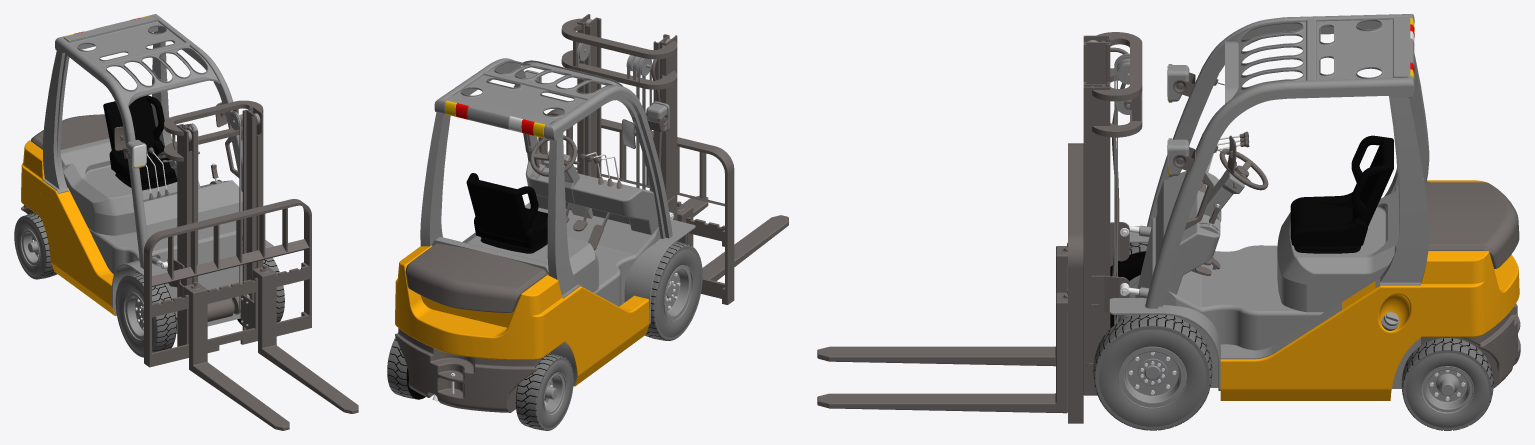
File: forklift.glb
3 views of the same model, side by side, from view 1: azimuth 30°, elevation 25°; view 2: azimuth 150°, elevation 25°; view 3: azimuth 270°, elevation 25° (orthographic). The views are drawn at different scales.
Visible parts, largest first — view 1: BODY-MOVECOPY41, SCALE252, SCALE278, SCALE2136, SCALE218, MOVE_FACE6, SCALE253, BODY-MOVECOPY43, BODY-MOVECOPY44, SCALE28, SCALE222, SCALE287 (+20 smaller); view 2: SPLIT141, SCALE242, SPLIT142, SCALE278, SCALE2136, SCALE253, SCALE218, SCALE28, BODY-MOVECOPY41, SCALE222, SCALE287, SCALE285 (+19 smaller); view 3: SCALE266, SCALE218, SCALE233, SPLIT141, SCALE2136, SCALE252, SCALE2122, SCALE2108, SCALE253, SCALE242, BODY-MOVECOPY44, SCALE25 (+20 smaller).
Boxes of the visible parts, left/top/right/bottom form: BODY-MOVECOPY41: left=144, top=199, right=311, bottom=367; SCALE252: left=60, top=138, right=177, bottom=235; SCALE278: left=40, top=180, right=115, bottom=315; SCALE2136: left=69, top=20, right=220, bottom=106; SCALE218: left=88, top=227, right=242, bottom=334; MOVE_FACE6: left=152, top=262, right=309, bottom=366; SCALE253: left=103, top=95, right=177, bottom=190; BODY-MOVECOPY43: left=183, top=281, right=289, bottom=430; BODY-MOVECOPY44: left=252, top=265, right=358, bottom=413; SCALE28: left=133, top=179, right=242, bottom=248; SCALE222: left=57, top=38, right=147, bottom=268; SCALE287: left=42, top=50, right=69, bottom=193; SPLIT141: left=395, top=245, right=565, bottom=359; SCALE242: left=405, top=243, right=547, bottom=312; SPLIT142: left=395, top=328, right=542, bottom=412; SCALE278: left=564, top=286, right=649, bottom=386; SCALE2136: left=454, top=60, right=623, bottom=121; SCALE253: left=466, top=173, right=547, bottom=253; SCALE218: left=537, top=207, right=660, bottom=386; SCALE28: left=525, top=161, right=658, bottom=234; BODY-MOVECOPY41: left=538, top=109, right=734, bottom=304; SCALE222: left=550, top=85, right=672, bottom=238; SCALE287: left=547, top=135, right=582, bottom=298; SCALE285: left=645, top=241, right=702, bottom=340; SCALE266: left=1220, top=281, right=1420, bottom=400; SCALE218: left=1135, top=215, right=1420, bottom=388; SCALE233: left=1093, top=315, right=1212, bottom=430; SPLIT141: left=1421, top=180, right=1519, bottom=337; SCALE2136: left=1225, top=17, right=1393, bottom=103; SCALE252: left=1277, top=178, right=1423, bottom=312; SCALE2122: left=1145, top=77, right=1408, bottom=308; SCALE2108: left=1083, top=83, right=1110, bottom=395; SCALE253: left=1290, top=135, right=1393, bottom=253; SCALE242: left=1424, top=182, right=1519, bottom=268; BODY-MOVECOPY44: left=817, top=289, right=1067, bottom=413; SCALE25: left=1375, top=95, right=1429, bottom=287.
Bounding box in the file's own units: 549 × 794 × 1480.
